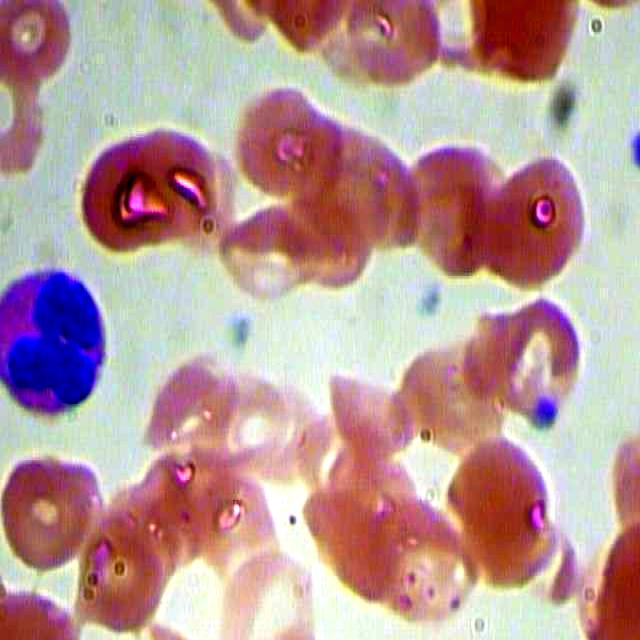Platelets: (532, 398, 558, 433)
RBC: (487, 141, 602, 291), (485, 289, 600, 439), (361, 487, 479, 625), (1, 431, 107, 581), (399, 143, 506, 284), (447, 429, 549, 555), (229, 75, 331, 200), (185, 469, 288, 587), (76, 137, 179, 255), (323, 364, 425, 467), (142, 352, 244, 455), (221, 197, 323, 300), (340, 1, 442, 103), (227, 374, 302, 470), (1, 1, 77, 87)
WBC: (1, 266, 121, 422)
